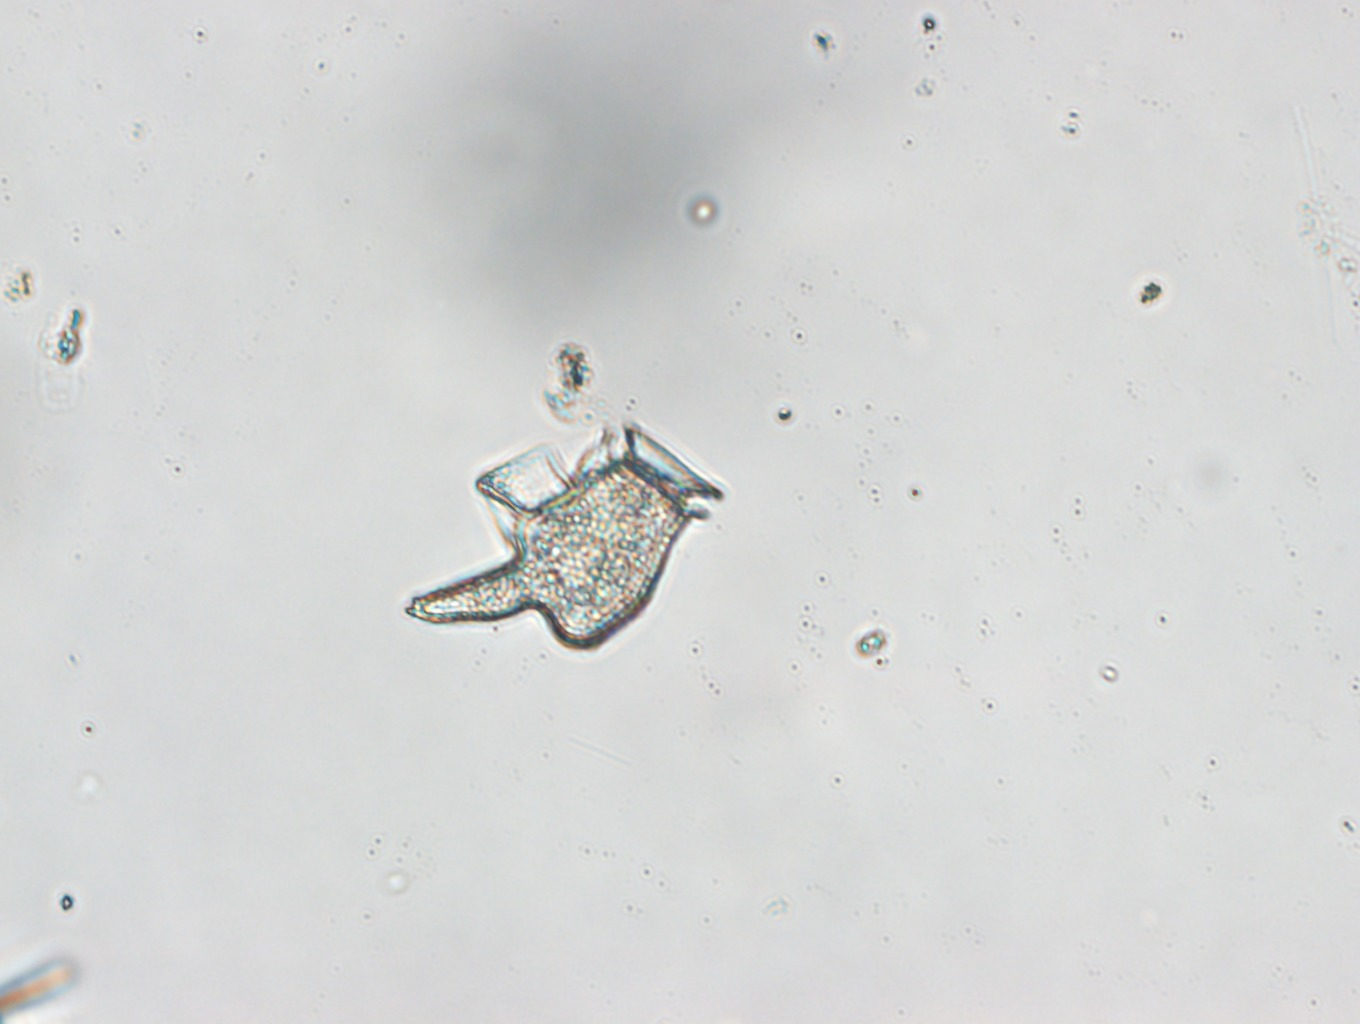dinophysis caudata: (402, 415, 722, 650)
